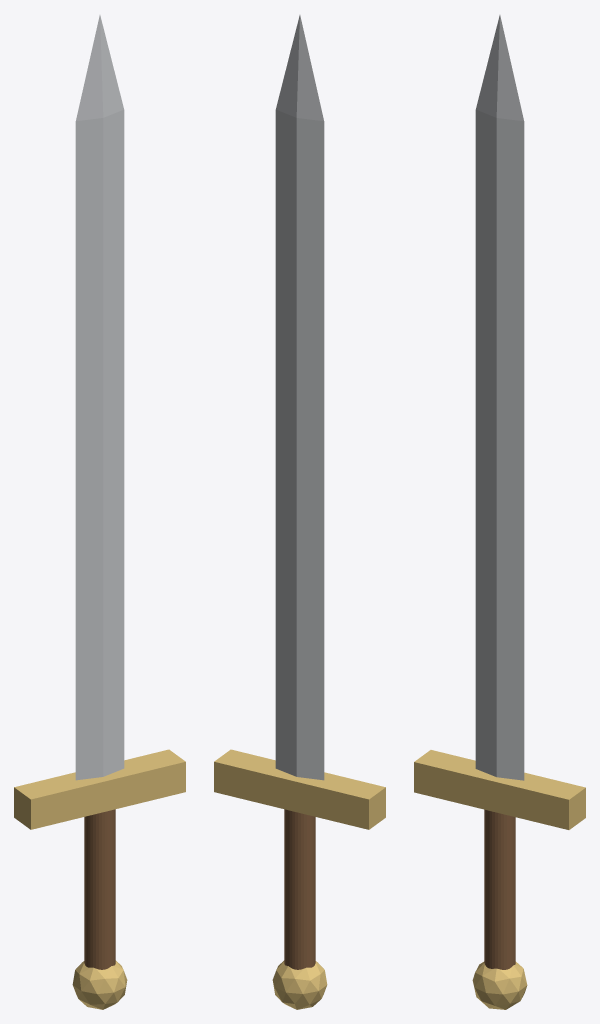
File: sword.glb
3 renders of one model, left to right at view 1: azimuth 30°, elevation 25°; view 2: azimuth 150°, elevation 25°; view 3: azimuth 330°, elevation 25°, orthographic.
Parts seen in each view (by area): view 1: Sword; view 2: Sword; view 3: Sword.
Boxes of the visible parts, left/top/right/bottom form: Sword: left=14, top=15, right=185, bottom=1009; Sword: left=214, top=15, right=385, bottom=1009; Sword: left=414, top=15, right=585, bottom=1009.
Size of the model in its own units: 0.16 by 0.98 by 0.05.
